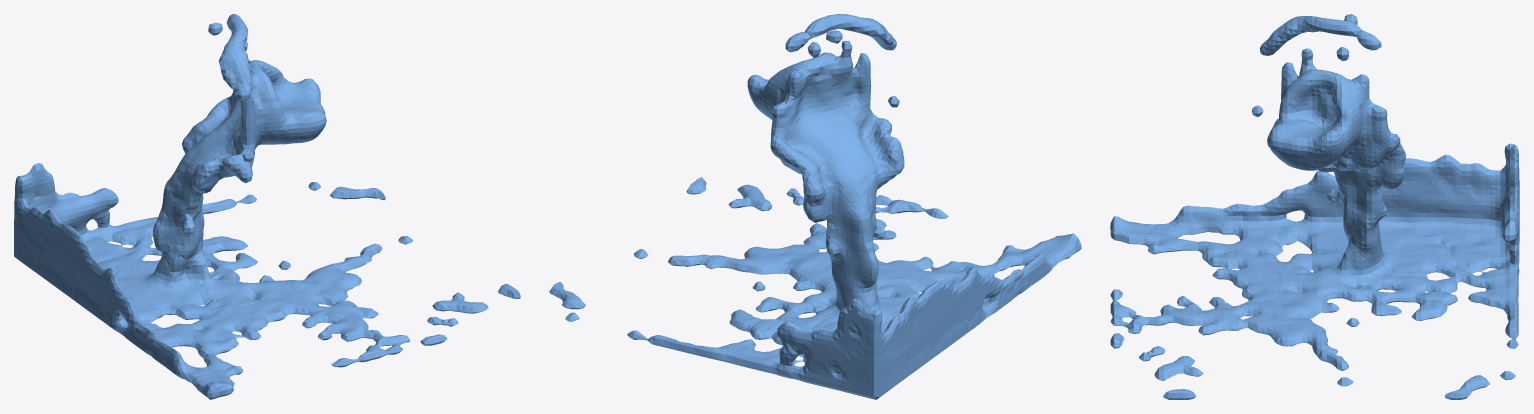
Rendered from water_0048.glb.
3 renders of one model, left to right at view 1: azimuth 30°, elevation 25°; view 2: azimuth 150°, elevation 25°; view 3: azimuth 270°, elevation 25°, orthographic. The views are drawn at different scales.
Visible parts, largest first — view 1: Water_0048; view 2: Water_0048; view 3: Water_0048.
Part boxes in pixels (left/top/right/bottom): Water_0048: left=14, top=14, right=520, bottom=399; Water_0048: left=549, top=14, right=1081, bottom=399; Water_0048: left=1110, top=14, right=1519, bottom=399.
Size of the model in its own units: 4.82 by 3.64 by 4.83.
